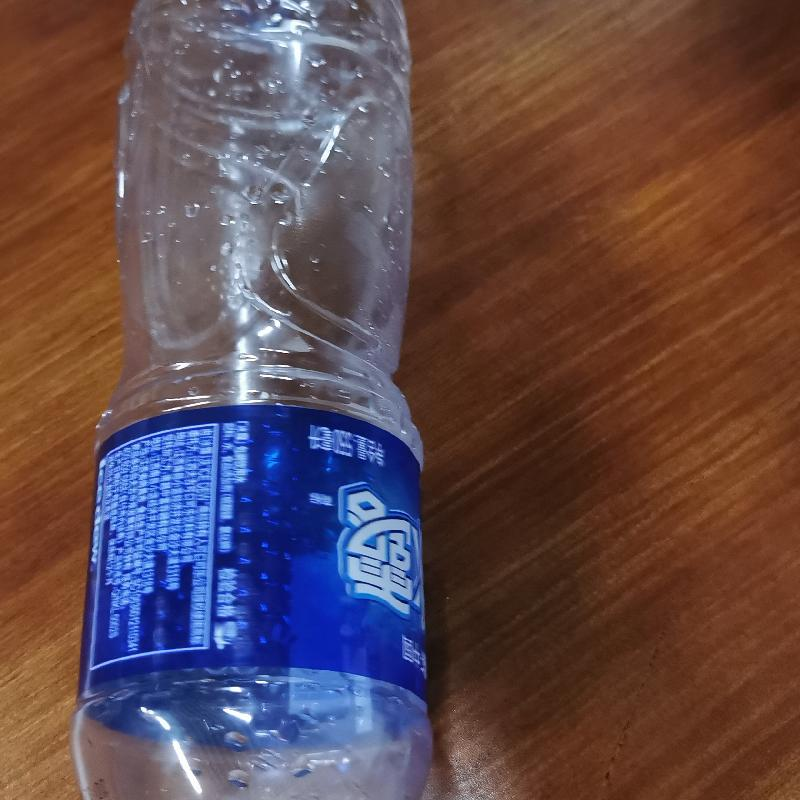bottles: (66, 0, 438, 799)
